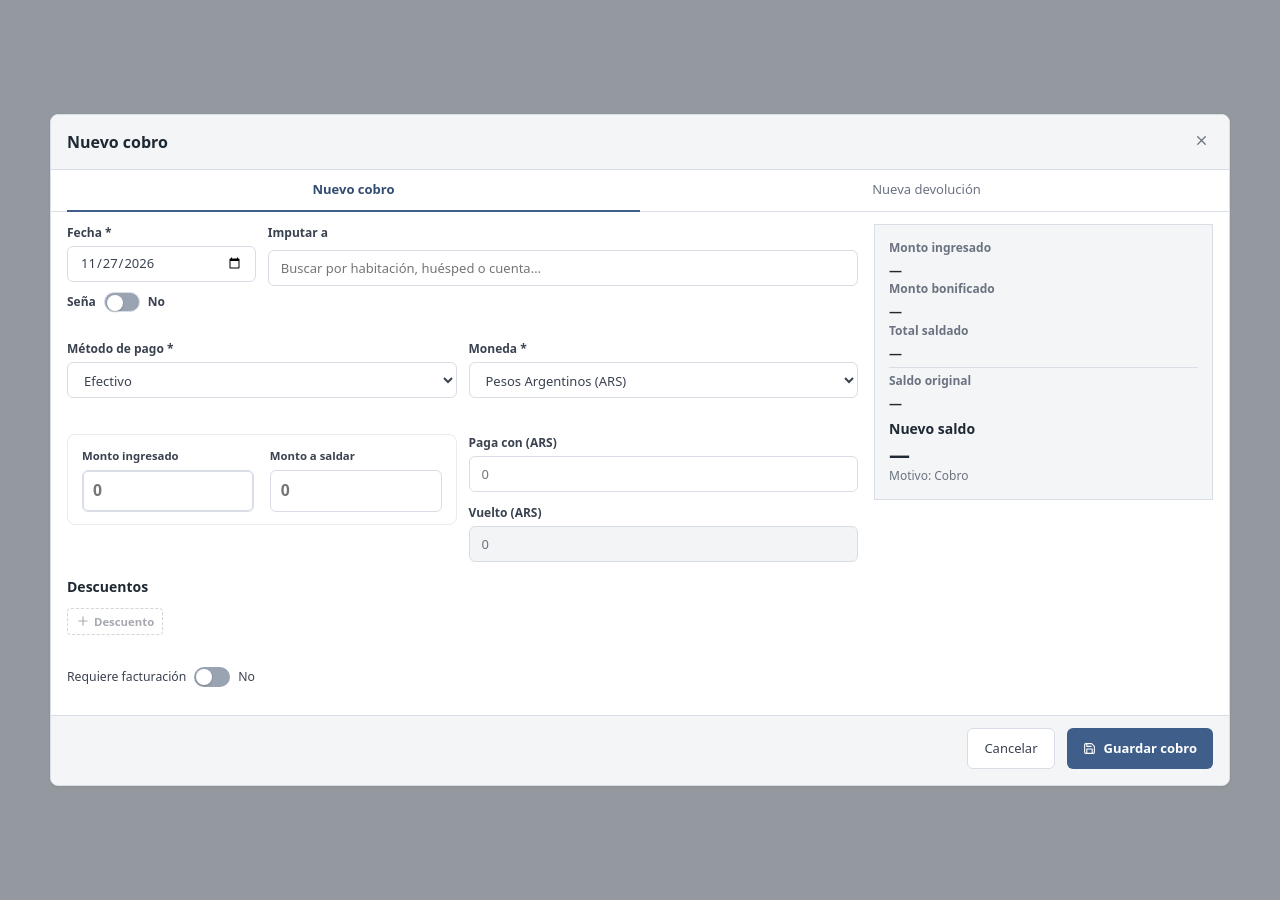
Test: CobroForm facturación › sin reservaId busca cuentas y permite filtrar por texto
The image size is (1280, 900).
Focus the dropdown with test id "payment-account-search" at (563, 268), box [268,250,858,286]
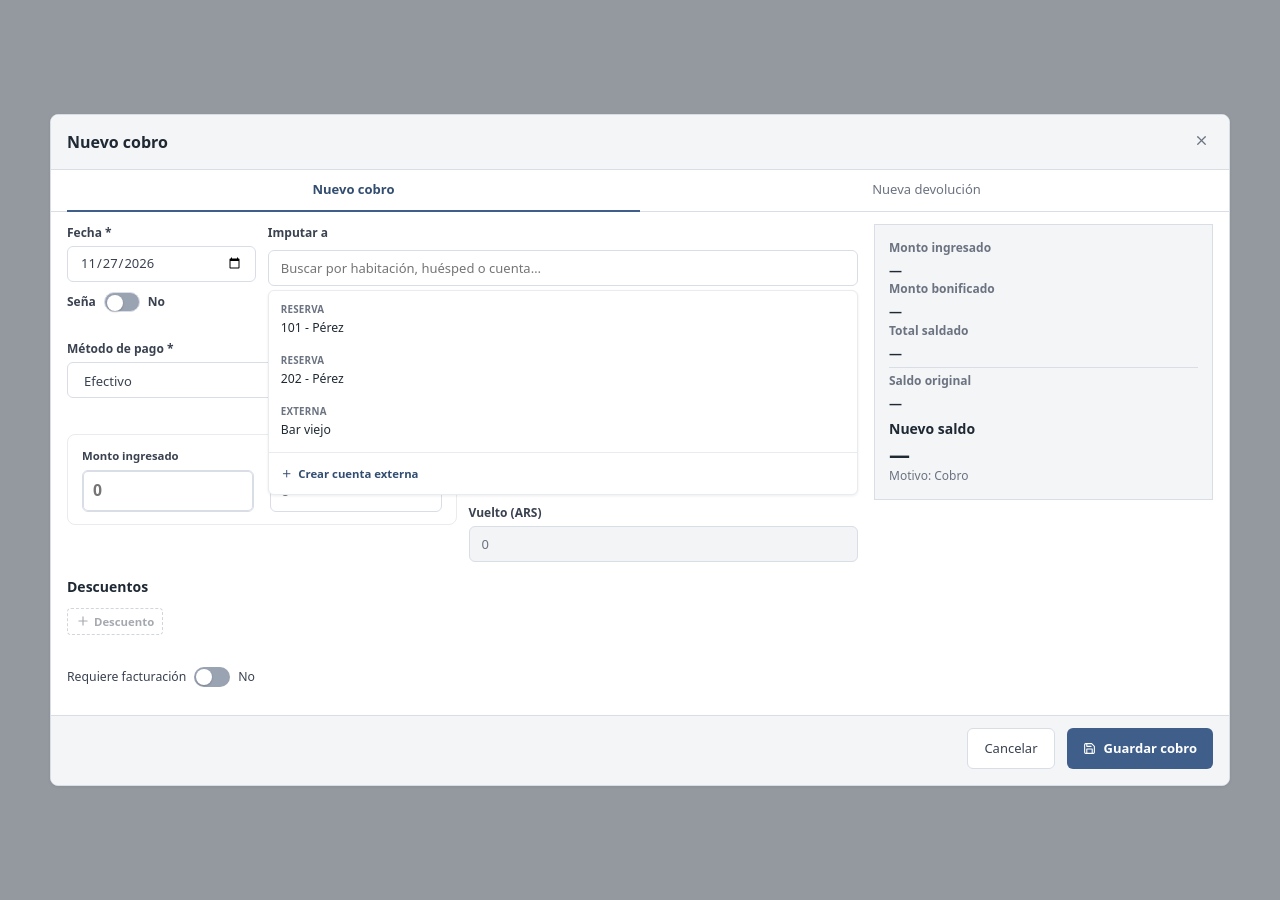
expect the option "Reserva 101 - Pérez" is shown: met, box [269,295,857,346]
Type "Pérez" into the dropdown with test id "payment-account-search" at (563, 268), box [268,250,858,286]
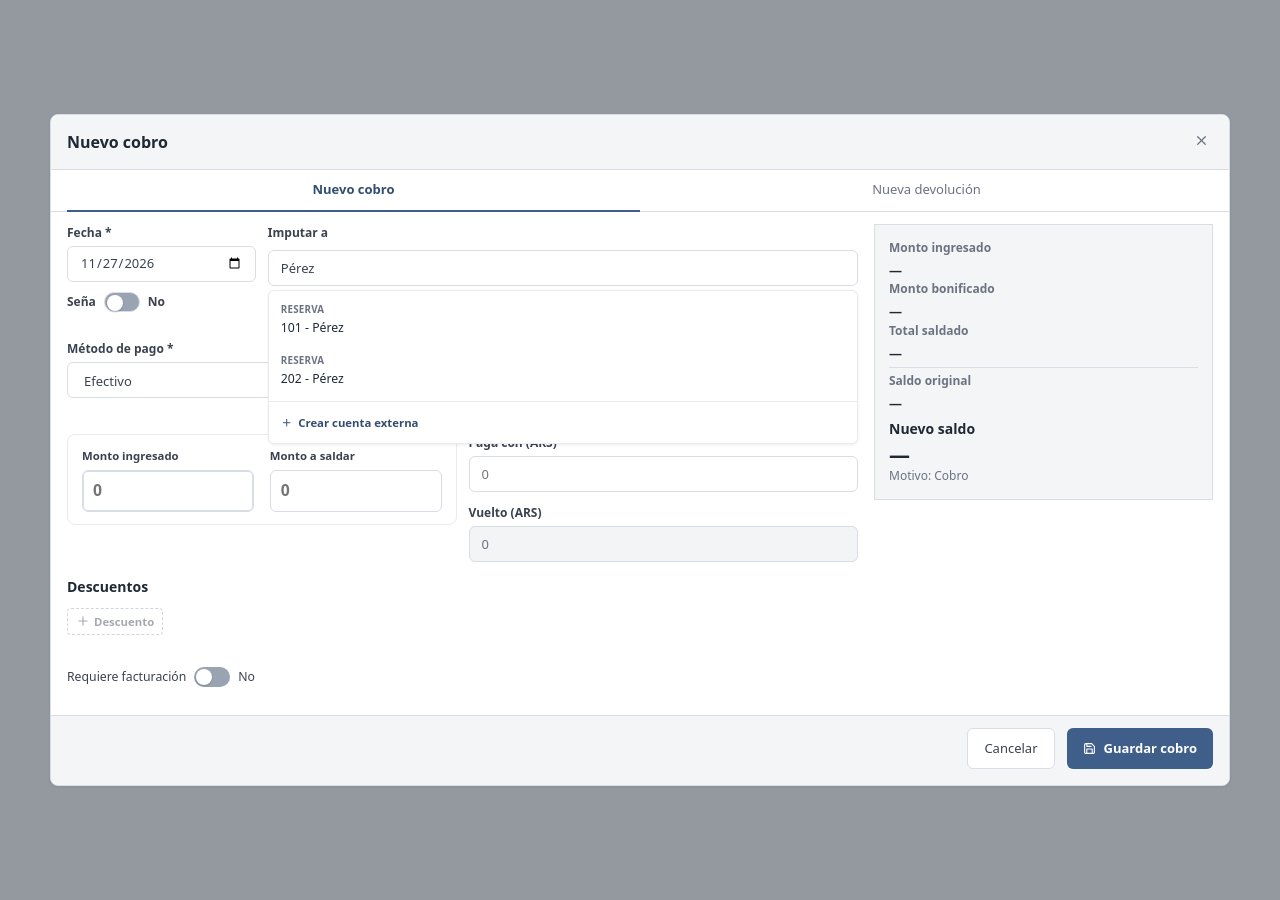
expect the option "Reserva 101 - Pérez" is shown: met, box [269,295,857,346]
Replace the text in the dropdown with test id "payment-account-search" with "zzzz-no-match" at (563, 268), box [268,250,858,286]
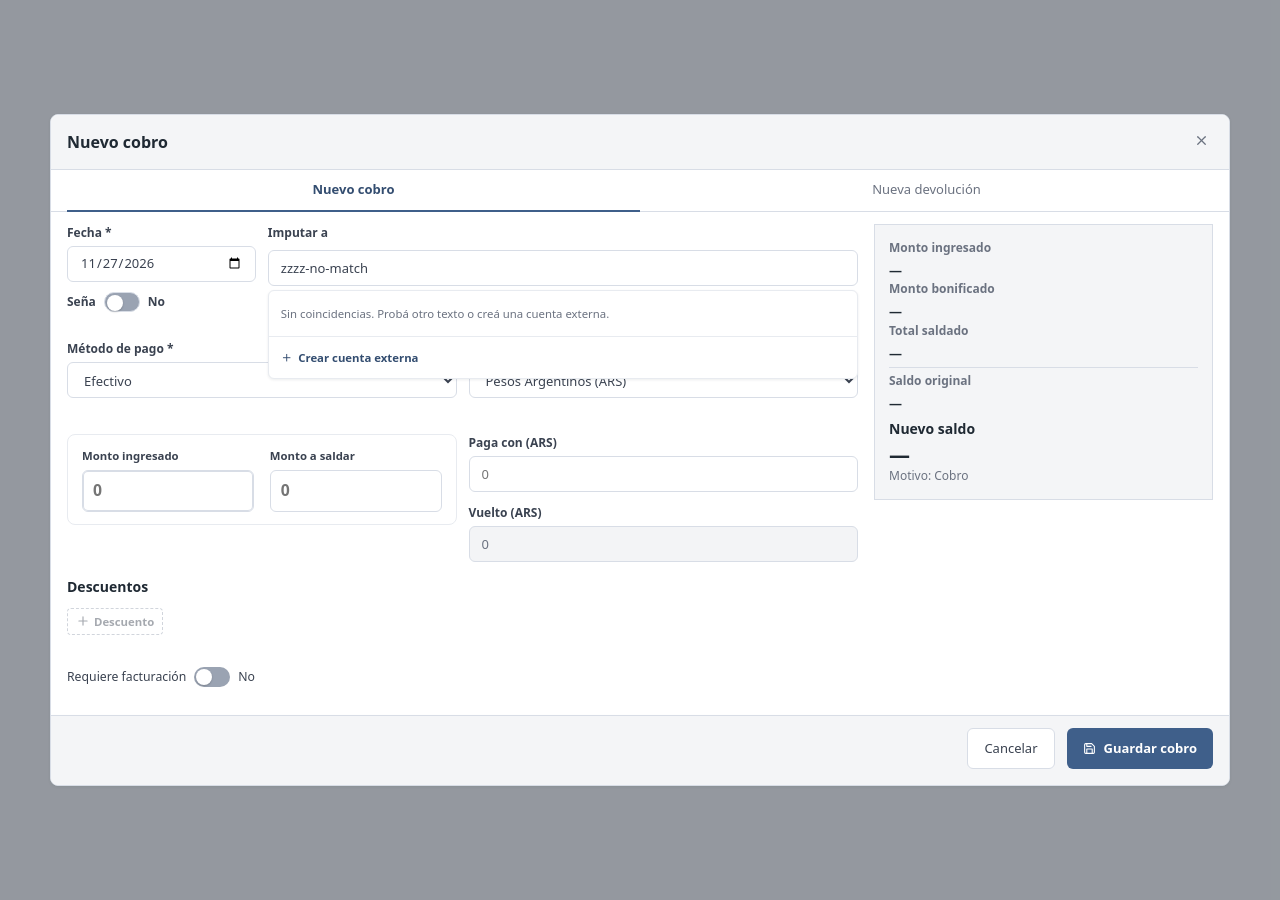
expect the list item "Sin coincidencias" is shown: met, box [281,306,609,321]
